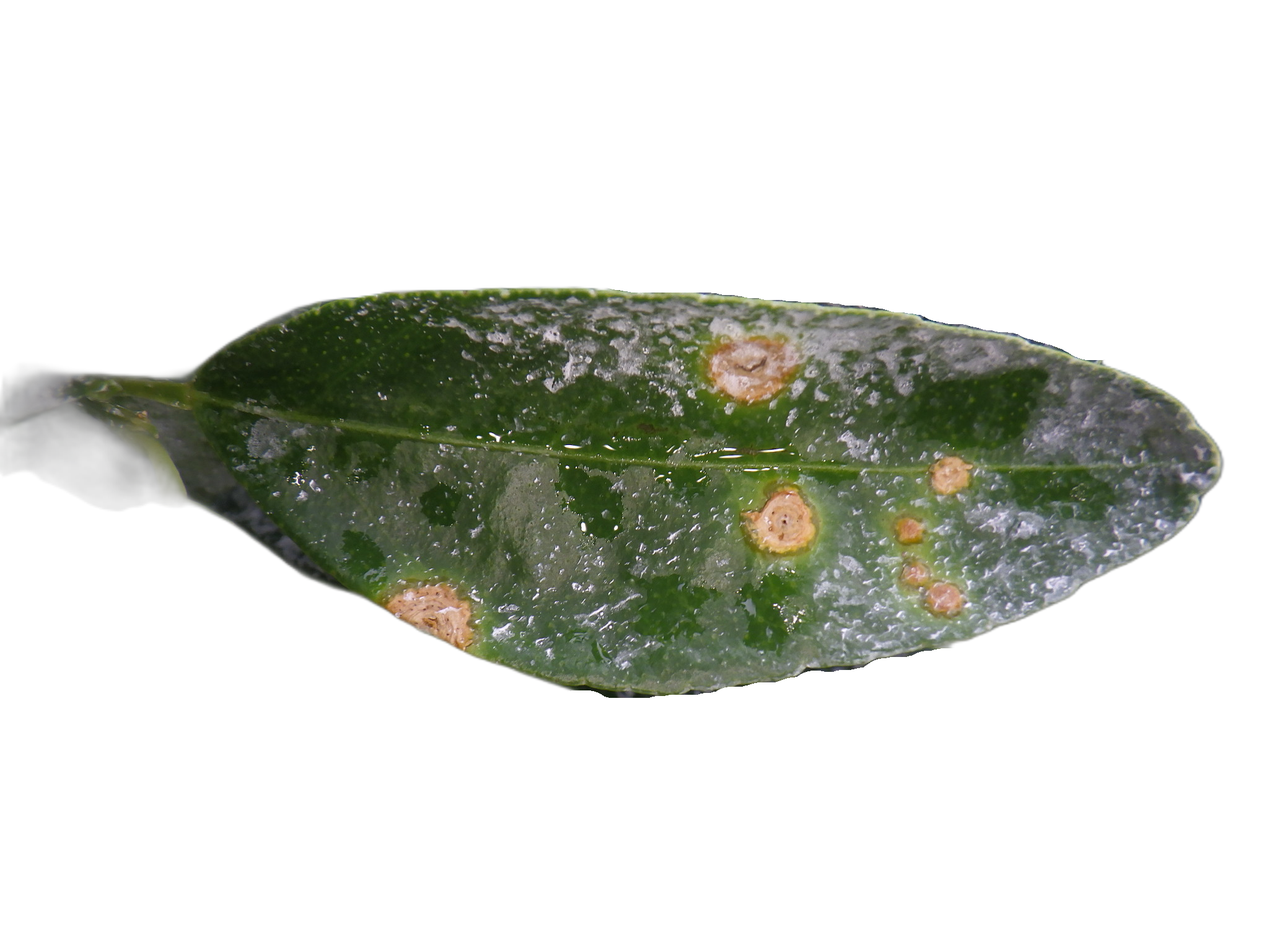Canker: (385, 583, 473, 650), (708, 337, 795, 403), (741, 485, 818, 555), (929, 456, 973, 495), (923, 583, 962, 615), (899, 557, 930, 588), (894, 516, 924, 544)
